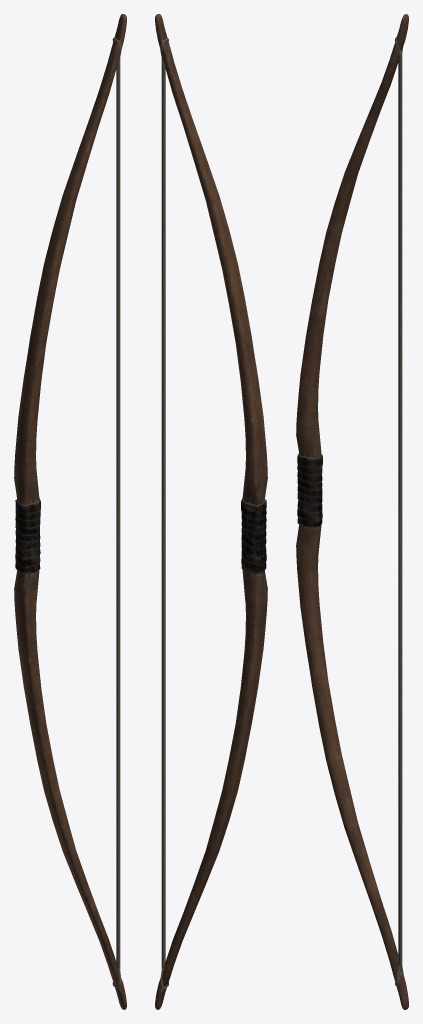
File: weapon-wp_a_1410.glb
3 renders of one model, left to right at view 1: azimuth 30°, elevation 25°; view 2: azimuth 150°, elevation 25°; view 3: azimuth 330°, elevation 25°, orthographic.
Parts seen in each view (by area): view 1: wp_a_1410_mesh; view 2: wp_a_1410_mesh; view 3: wp_a_1410_mesh.
Boxes of the visible parts, x1,y1,x2,y2 form: wp_a_1410_mesh: (14, 14, 126, 1009); wp_a_1410_mesh: (155, 14, 267, 1009); wp_a_1410_mesh: (296, 14, 408, 1009).
Size of the model in its own units: 0.2021 by 1.78 by 0.0398.
1 material, 1 textured.
